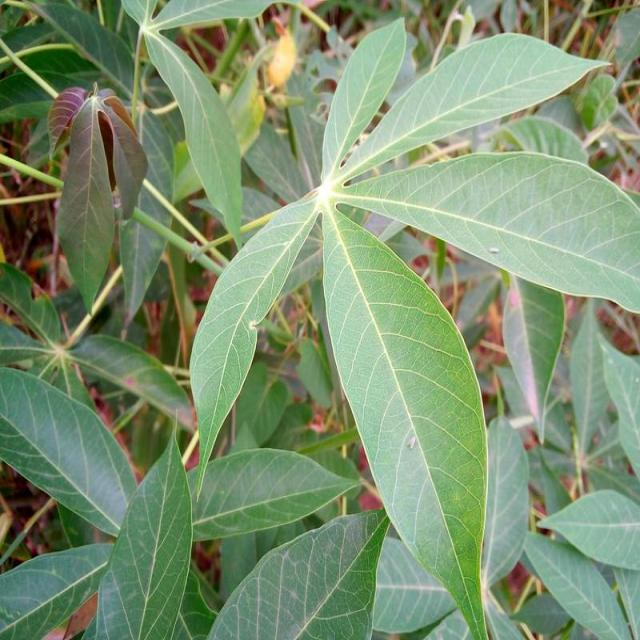cassava leaf: (3, 6, 639, 638), (321, 203, 490, 638), (189, 189, 322, 498), (84, 422, 194, 638)
